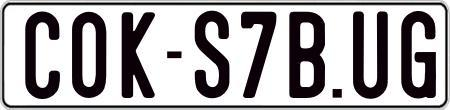0: (70, 9, 105, 95)
7: (241, 11, 282, 102)
B: (289, 12, 328, 102)
C: (24, 9, 63, 102)
G: (400, 9, 431, 97)
K: (122, 12, 159, 99)
S: (192, 9, 231, 96)
U: (351, 10, 386, 102)
